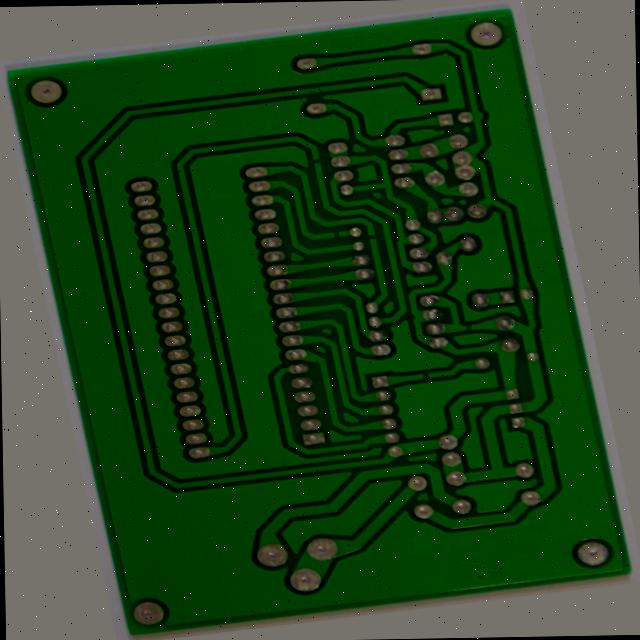open_circuit: (423, 384, 442, 397), (345, 142, 361, 154), (351, 224, 369, 234), (395, 230, 410, 241), (488, 338, 503, 348)
